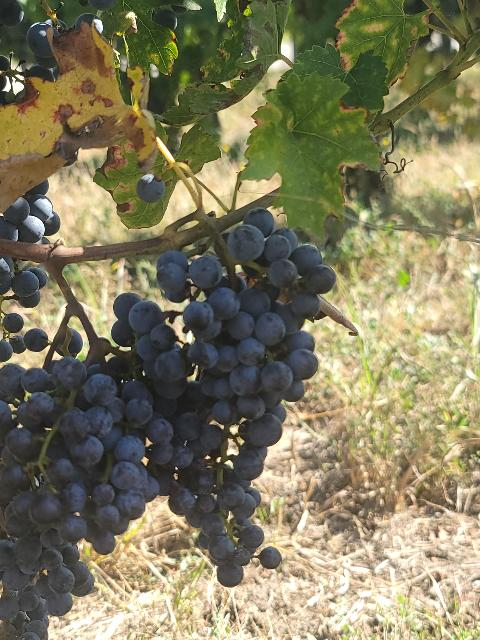grapes: (121, 208, 335, 584), (0, 351, 154, 640)
